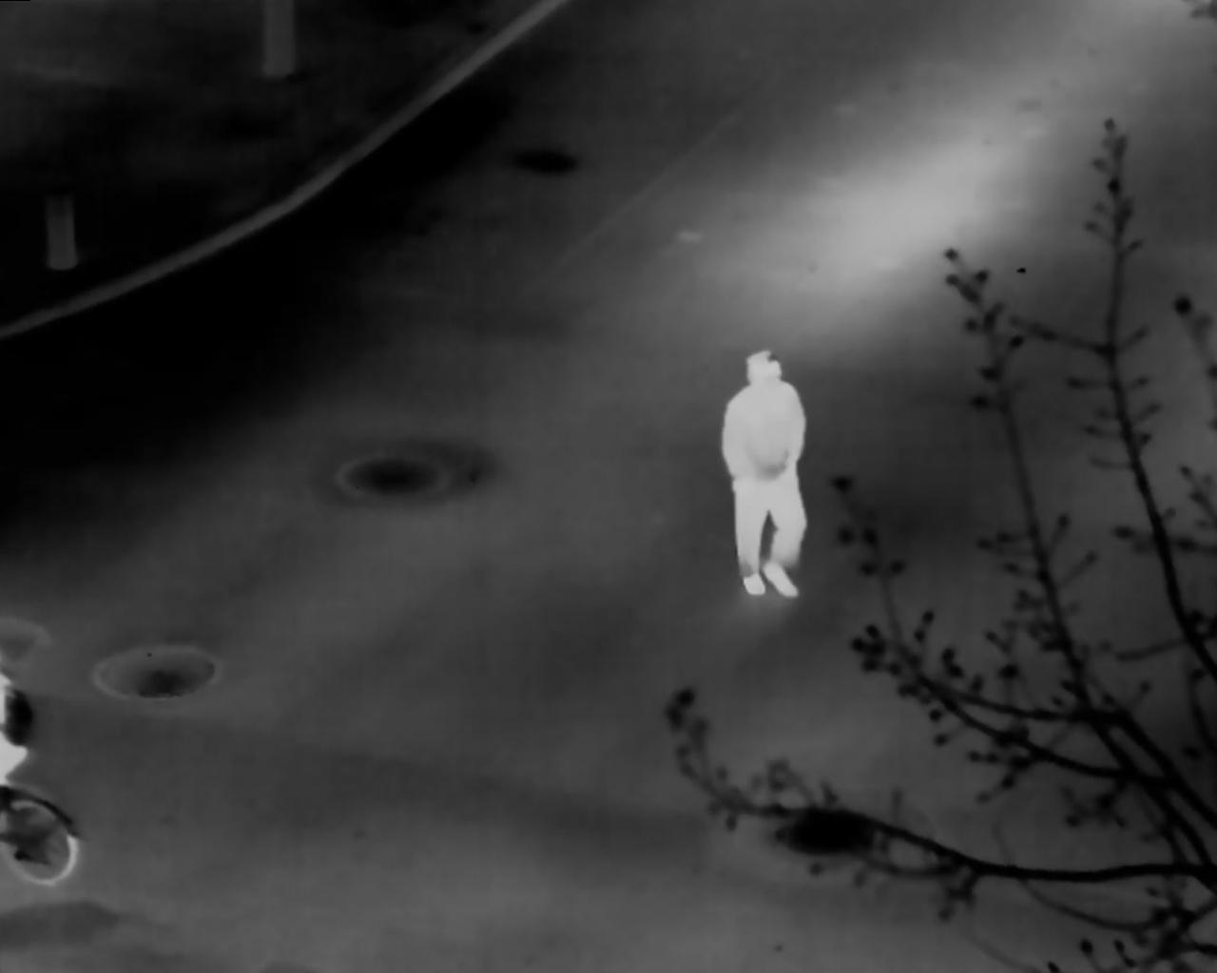person: (719, 349, 808, 598)
